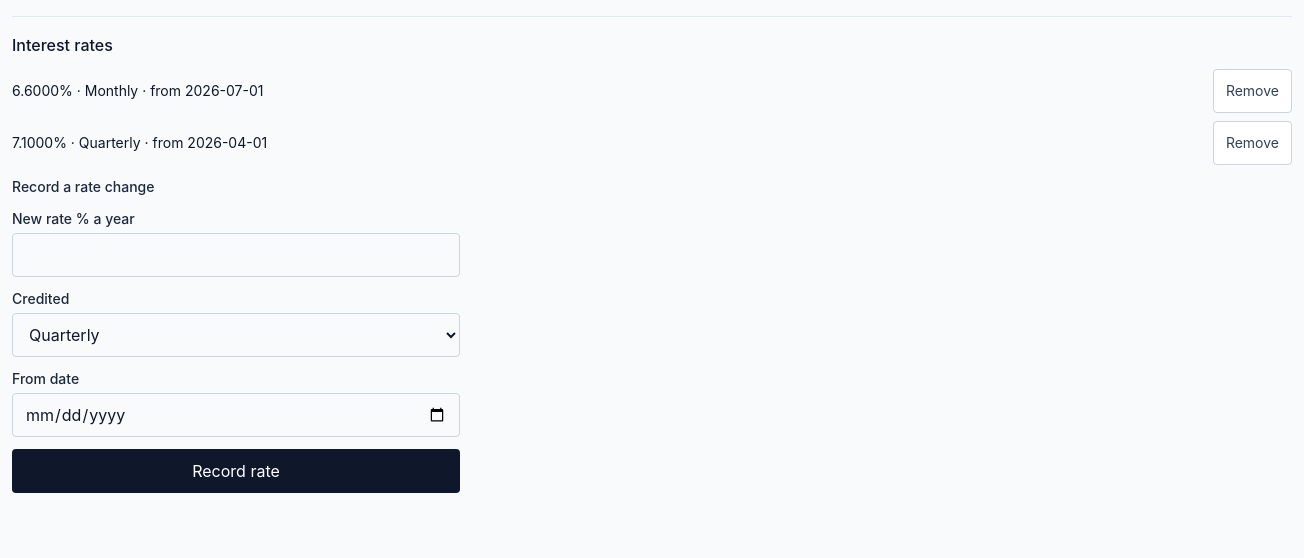
Test: RateHistory › shows the server's refusal when that date already has a rate
Expected: the text "6.6000% · Monthly · from 2026-07-01" is shown, x1=12 y1=81 x2=264 y2=101
Type "7.25" into the field labelled "New rate % a year".
click(236, 255); type("7.25")  # box x1=12 y1=233 x2=460 y2=277
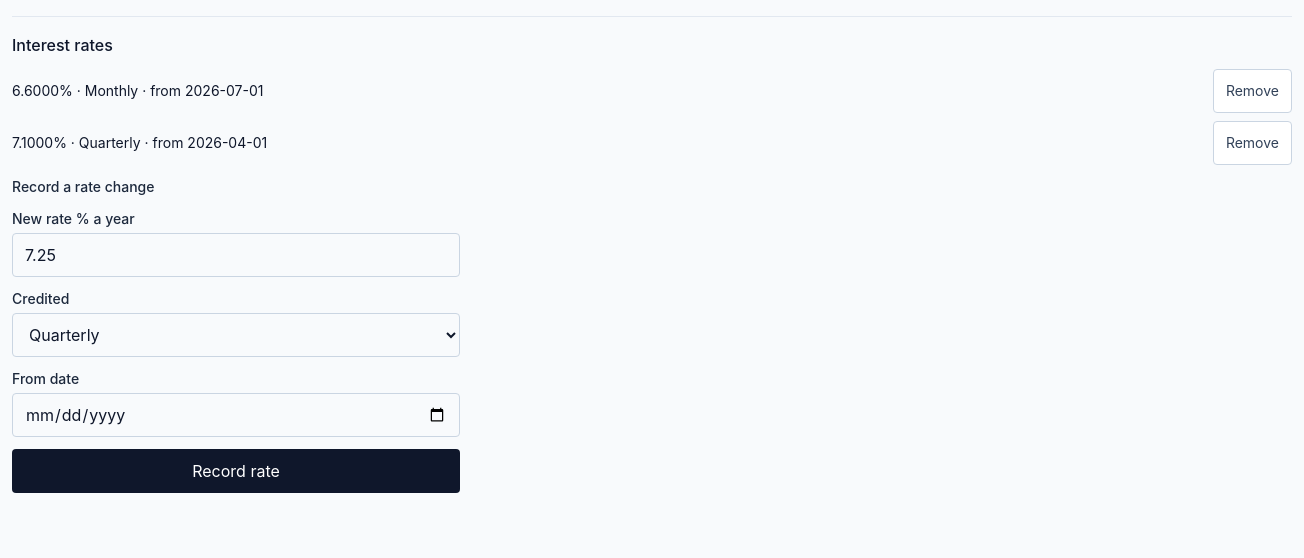
Type "2026-10-01" into the date field labelled "From date".
click(236, 415); type("2026-10-01")  # box x1=12 y1=393 x2=460 y2=437
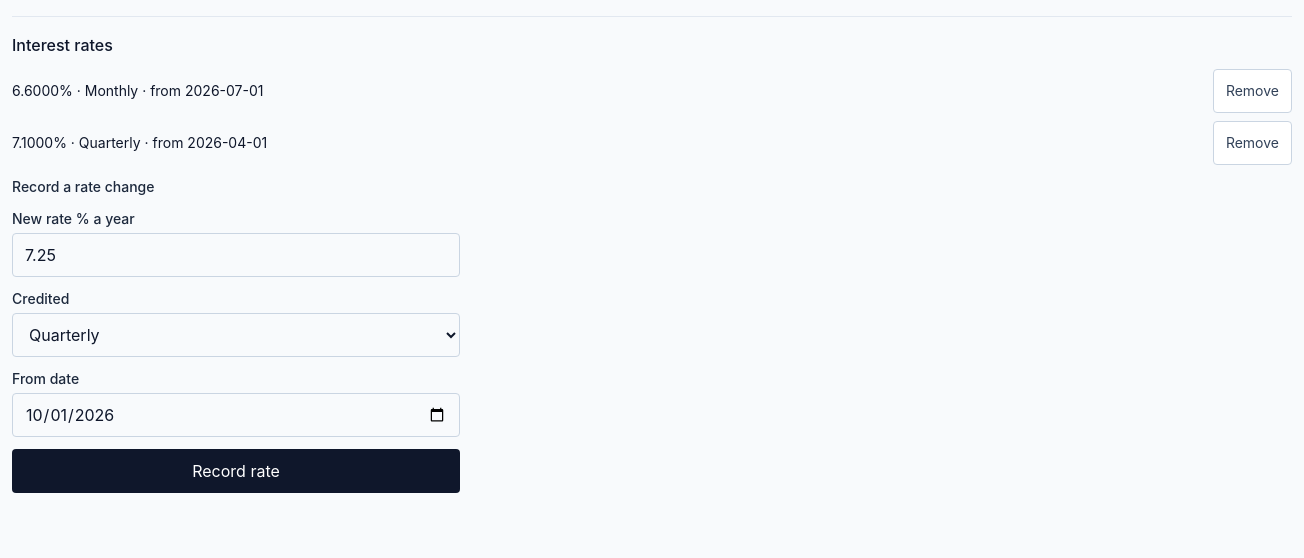
Click the button "Record rate".
click(236, 471)  # box x1=12 y1=449 x2=460 y2=493
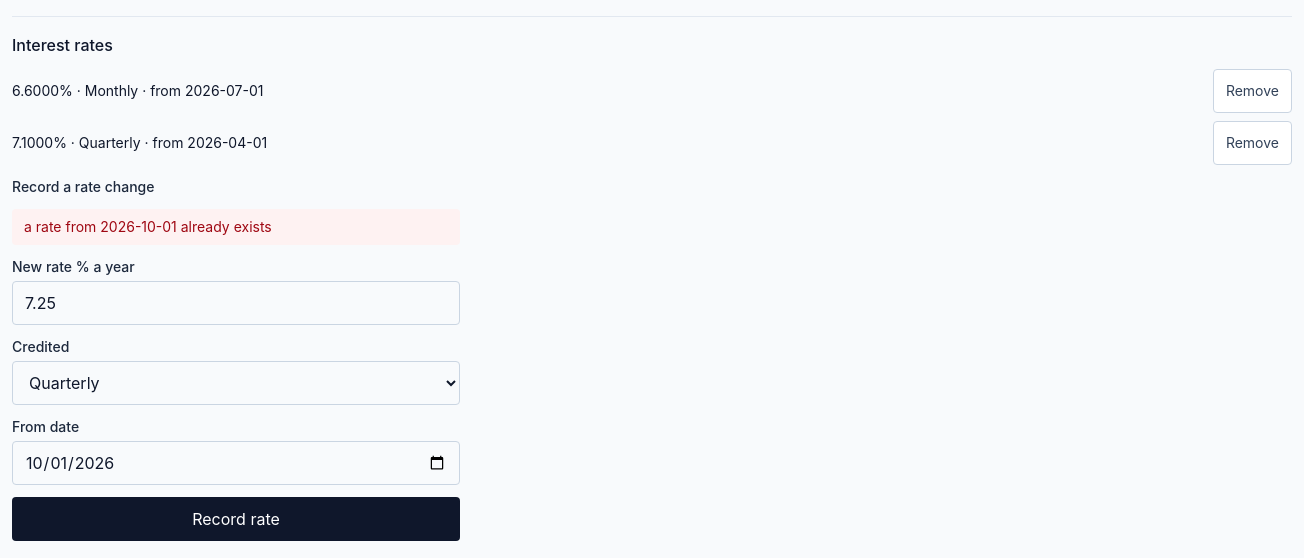
Result: the message reads "a rate from 2026-10-01 already exists" at x1=24 y1=218 x2=272 y2=235
